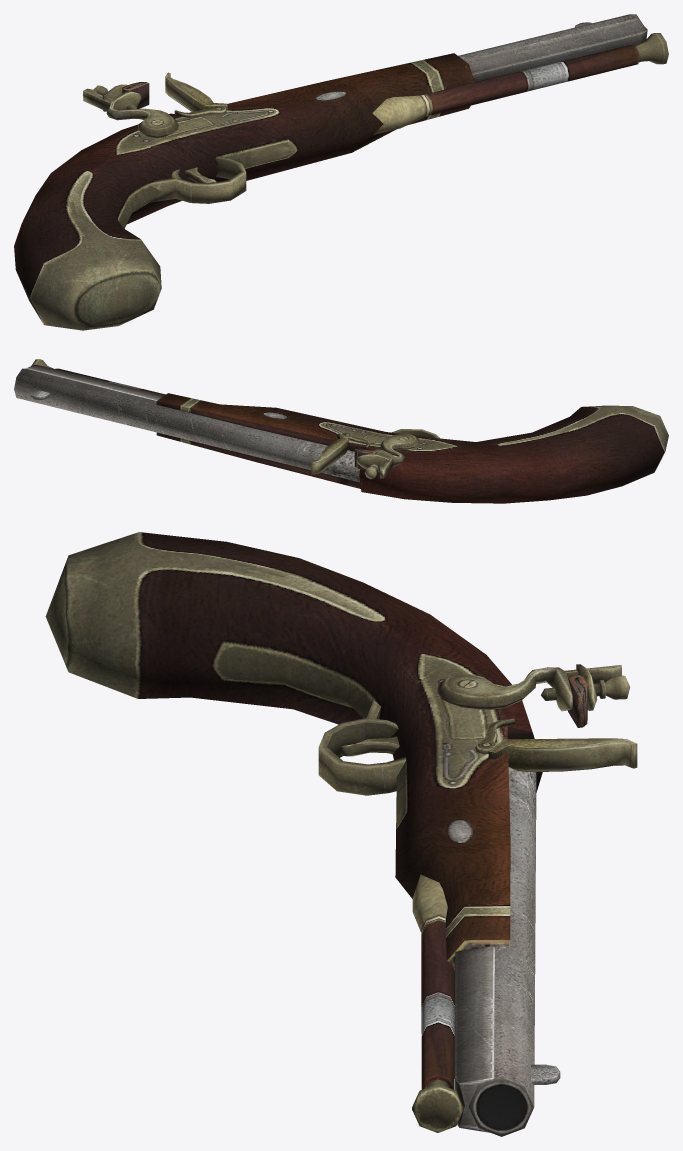
The model's file is gun.glb.
3 renders of one model, top to bottom at view 1: azimuth 30°, elevation 25°; view 2: azimuth 150°, elevation 25°; view 3: azimuth 270°, elevation 25°, orthographic. The views are drawn at different scales.
Visible parts, largest first — view 1: Flintlock_pistol; view 2: Flintlock_pistol; view 3: Flintlock_pistol.
Part boxes in pixels (bbox=[...]): Flintlock_pistol: bbox=[14, 14, 668, 330]; Flintlock_pistol: bbox=[14, 359, 668, 503]; Flintlock_pistol: bbox=[45, 532, 637, 1136].
Bounding box in the file's own units: 1.49 × 0.176 × 0.686.
1 material, 1 textured.
